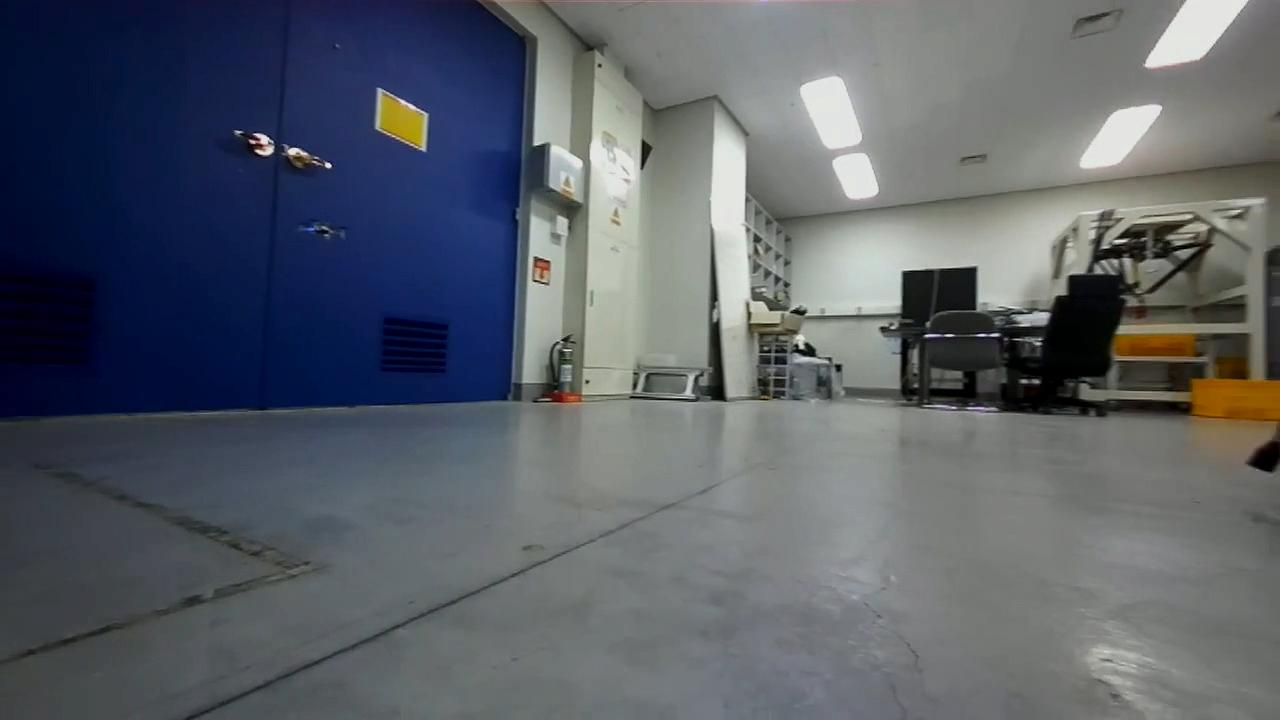crazyflie: (293, 217, 351, 244)
